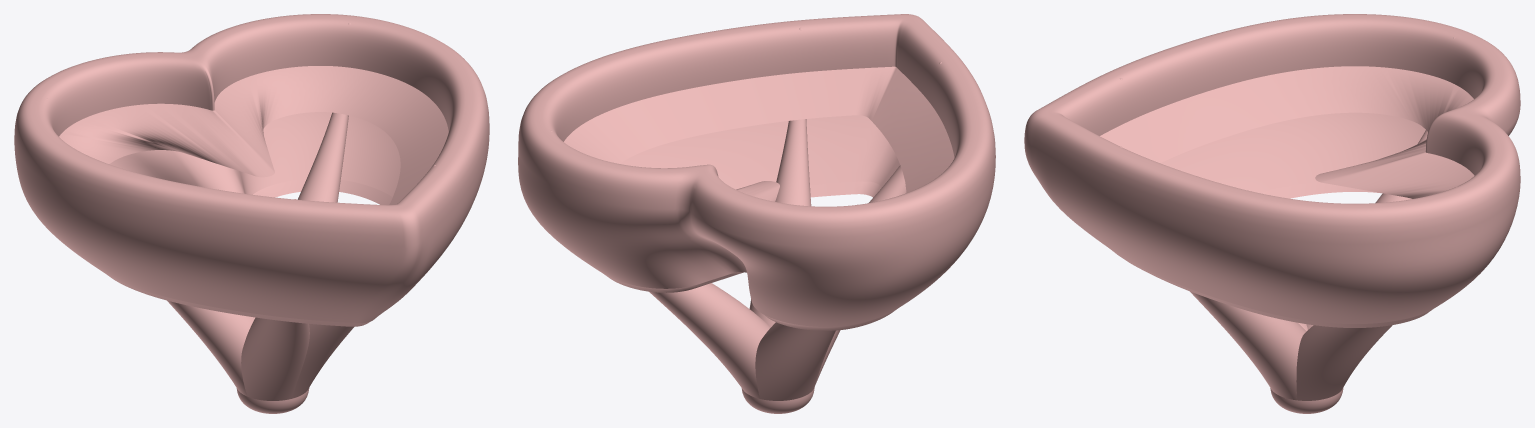
File: Heart-Bezel.glb
3 renders of one model, left to right at view 1: azimuth 30°, elevation 25°; view 2: azimuth 150°, elevation 25°; view 3: azimuth 270°, elevation 25°, orthographic.
Parts seen in each view (by area): view 1: Heart; view 2: Heart; view 3: Heart.
Boxes of the visible parts, box(x1,y1,x2,y2) form: Heart: box(14, 14, 489, 413); Heart: box(518, 14, 995, 413); Heart: box(1024, 14, 1520, 413).
Bounding box in the file's own units: 6 × 4.01 × 6.1.
